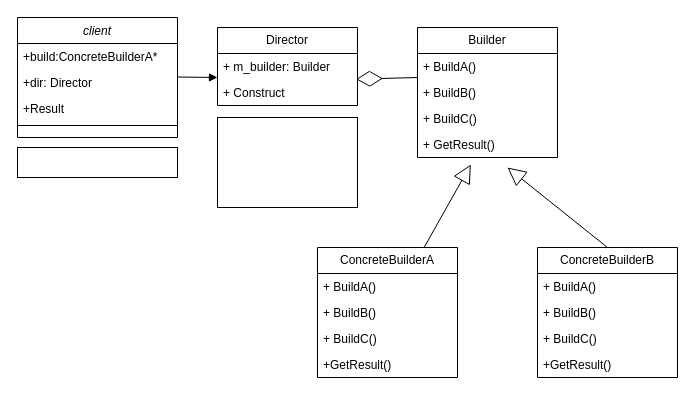
The diagram is 695 pixels wide and 398 high, and some of its shapes have lost their labels. The centre of each missing label's shape, as x and y in pixels:
Construct calls below functions: +BuildA +BuildB +BuildC +GetResult(): the point at 287,162
Result = build->GetResult(): the point at 97,162
